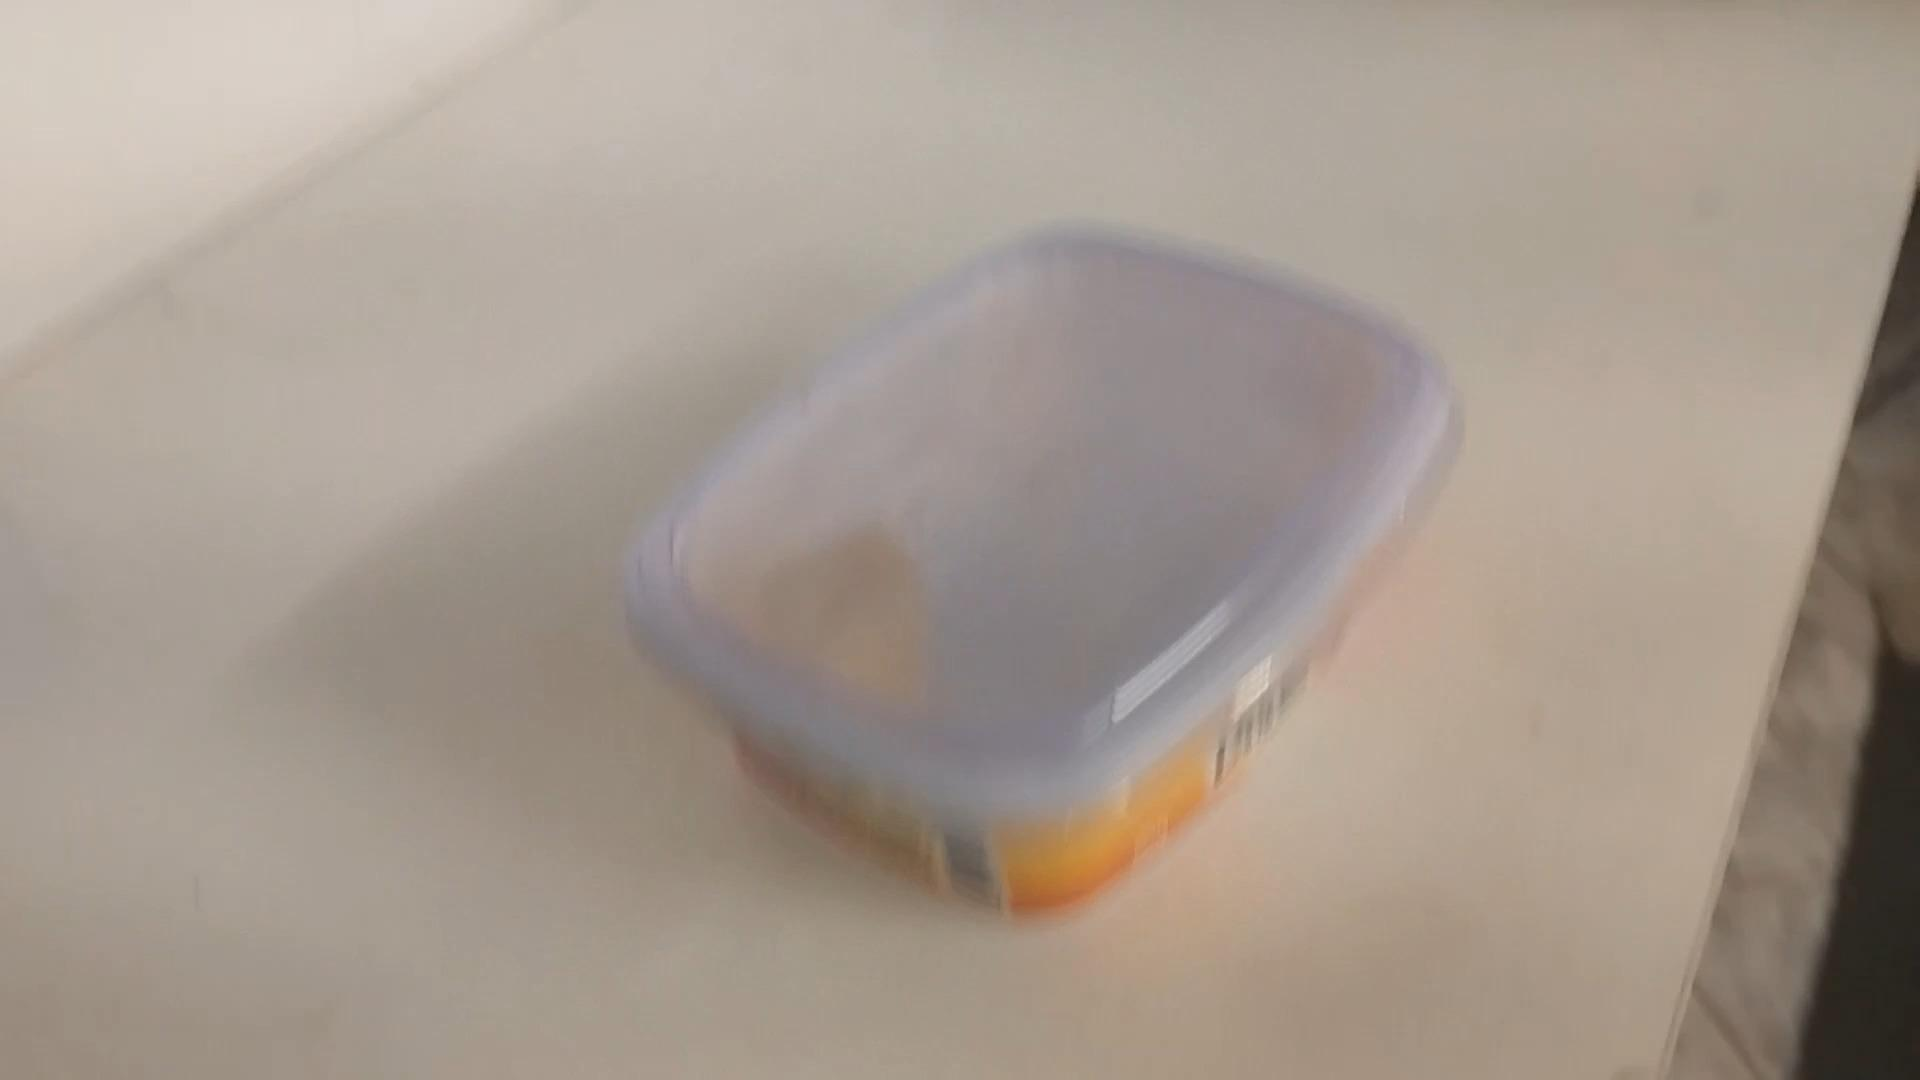butter: (615, 222, 1465, 924)
